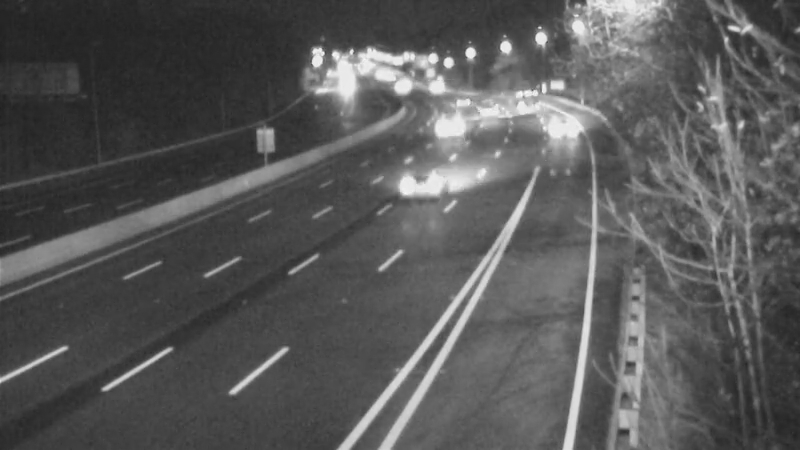vehicle: (386, 148, 466, 228), (408, 59, 458, 109), (377, 64, 427, 114), (436, 73, 486, 123), (497, 75, 547, 125), (464, 88, 514, 138), (535, 104, 585, 154), (420, 99, 470, 149)
